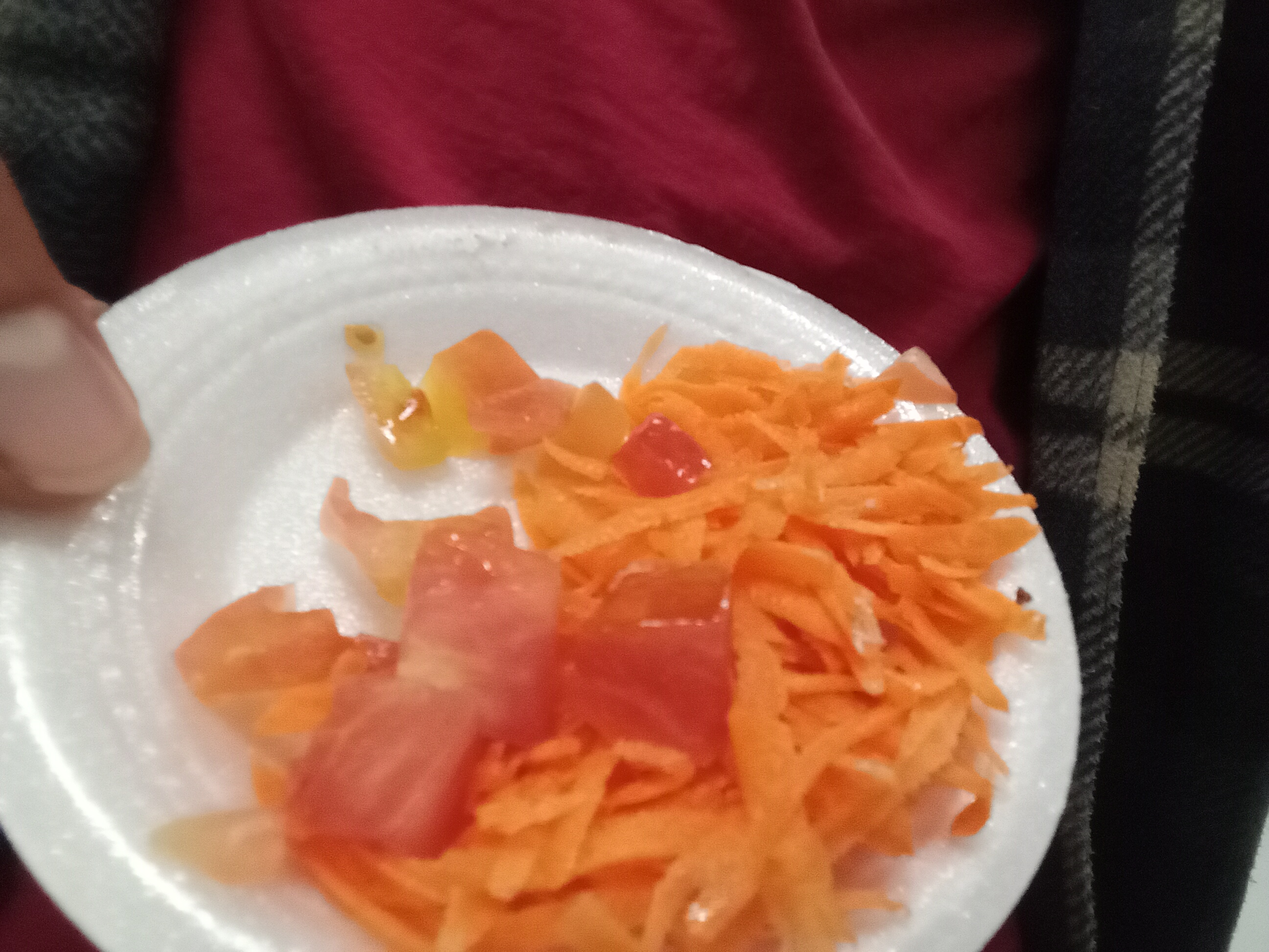Organico: (175, 337, 1046, 952)
